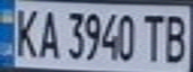0: (118, 10, 139, 62)
3: (63, 7, 84, 61)
4: (100, 9, 121, 61)
9: (81, 9, 103, 61)
A: (33, 6, 60, 60)
B: (160, 10, 193, 64)
K: (9, 3, 42, 59)
T: (139, 10, 169, 64)
